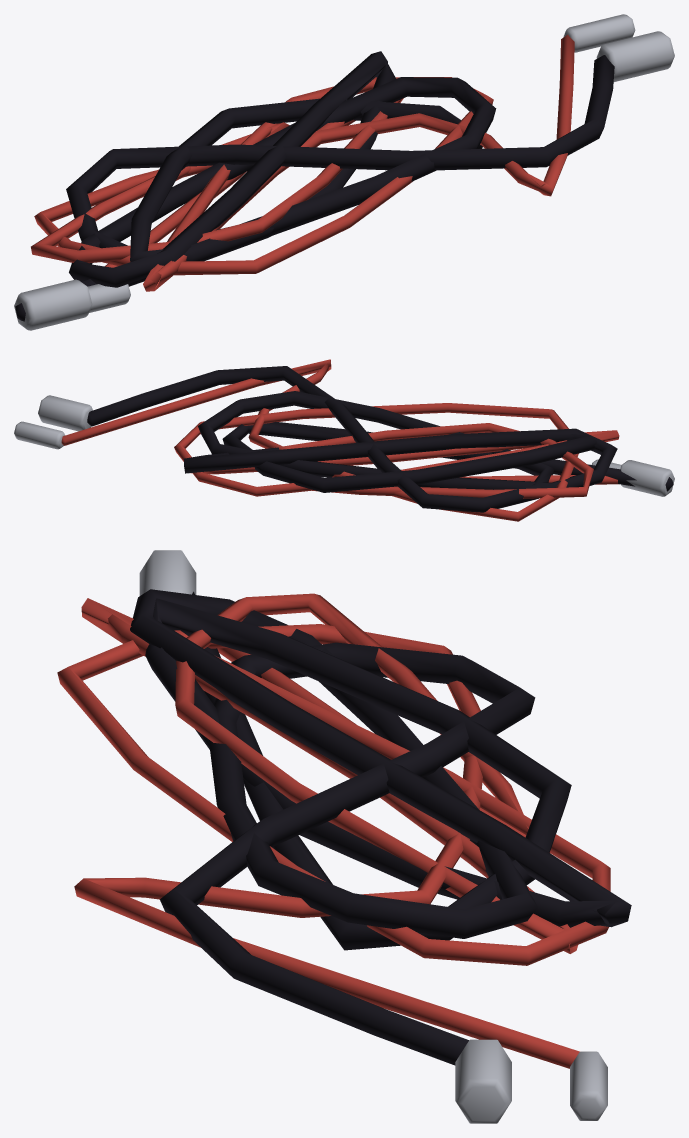
The model's file is cable_tangle.glb.
3 views of the same model, one above another, from view 1: azimuth 30°, elevation 25°; view 2: azimuth 150°, elevation 25°; view 3: azimuth 270°, elevation 25° (orthographic). The views are drawn at different scales.
Visible parts, largest first — view 1: cable_tangle; view 2: cable_tangle; view 3: cable_tangle.
Boxes of the visible parts, <box> form: cable_tangle: <box>14,14,674,330</box>; cable_tangle: <box>14,359,674,521</box>; cable_tangle: <box>57,550,631,1123</box>.
Size of the model in its own units: 0.3627 by 0.0235 by 0.1637.
